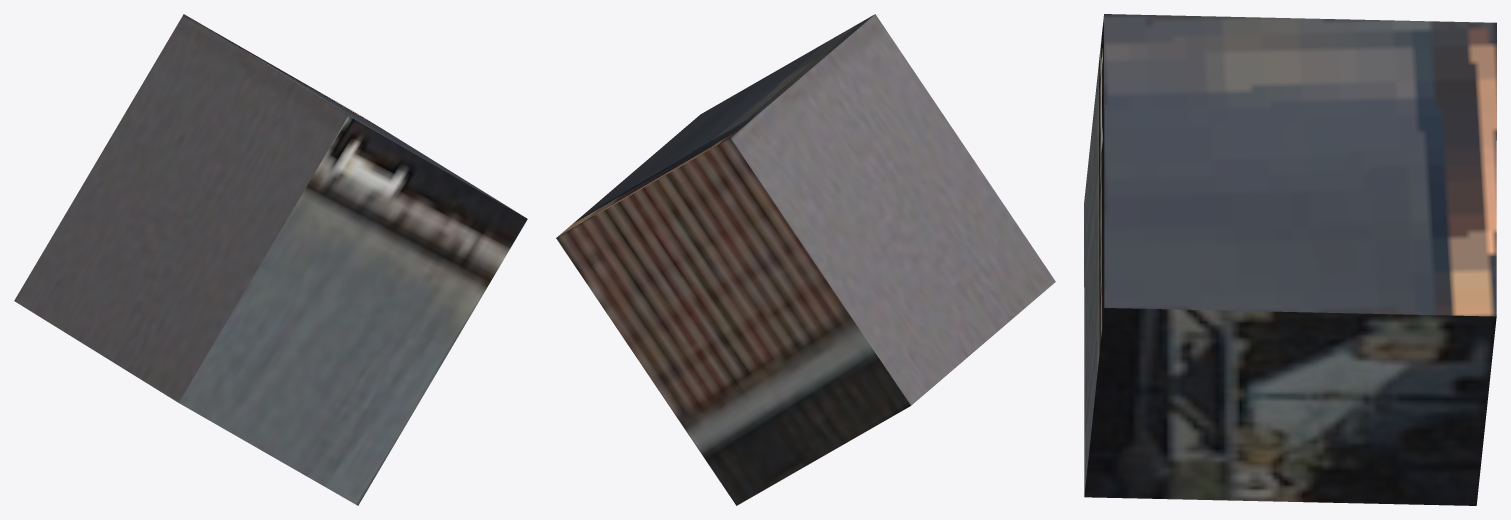
3 views of the same model, side by side, from view 1: azimuth 30°, elevation 25°; view 2: azimuth 150°, elevation 25°; view 3: azimuth 270°, elevation 25° (orthographic). The views are drawn at different scales.
Parts seen in each view (by area): view 1: BAG_0599100100019951; view 2: BAG_0599100100019951; view 3: BAG_0599100100019951.
Boxes of the visible parts, x1,y1,x2,y2 form: BAG_0599100100019951: [14, 14, 527, 505]; BAG_0599100100019951: [556, 14, 1055, 505]; BAG_0599100100019951: [1084, 14, 1496, 505].
Size of the model in its own units: 3.36 by 3.48 by 2.63.
1 material, 1 textured.
